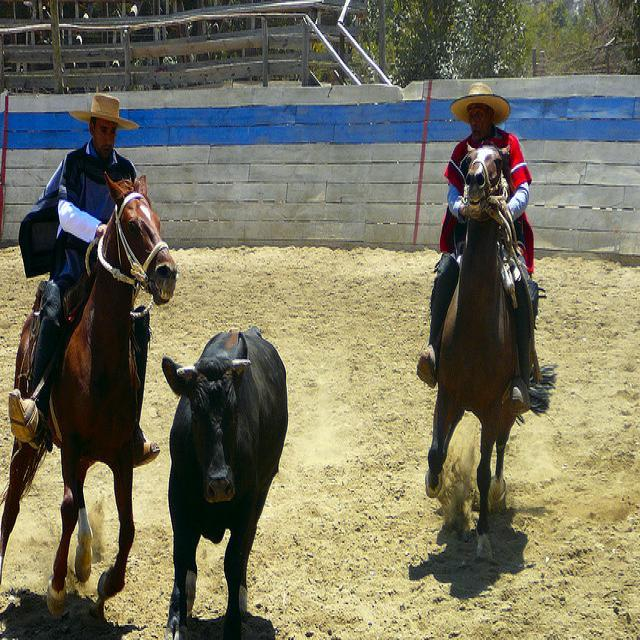cow: (161, 323, 288, 638)
